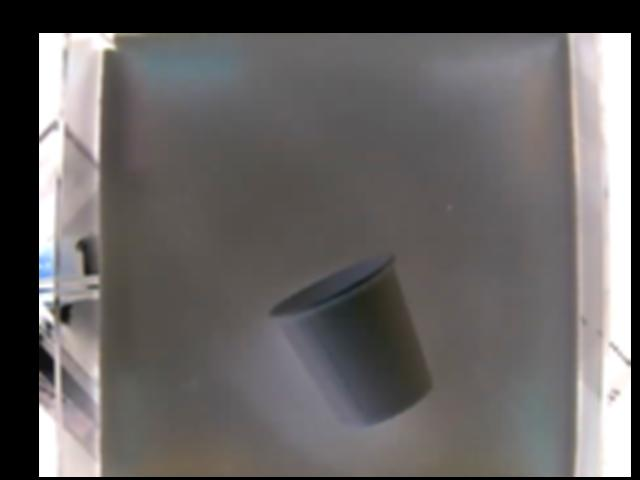Cup: (265, 254, 434, 427)
